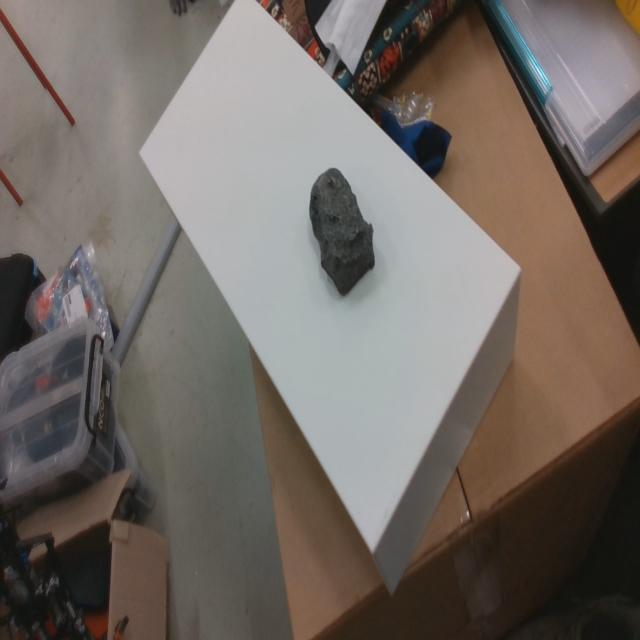stone: (308, 168, 374, 296)
